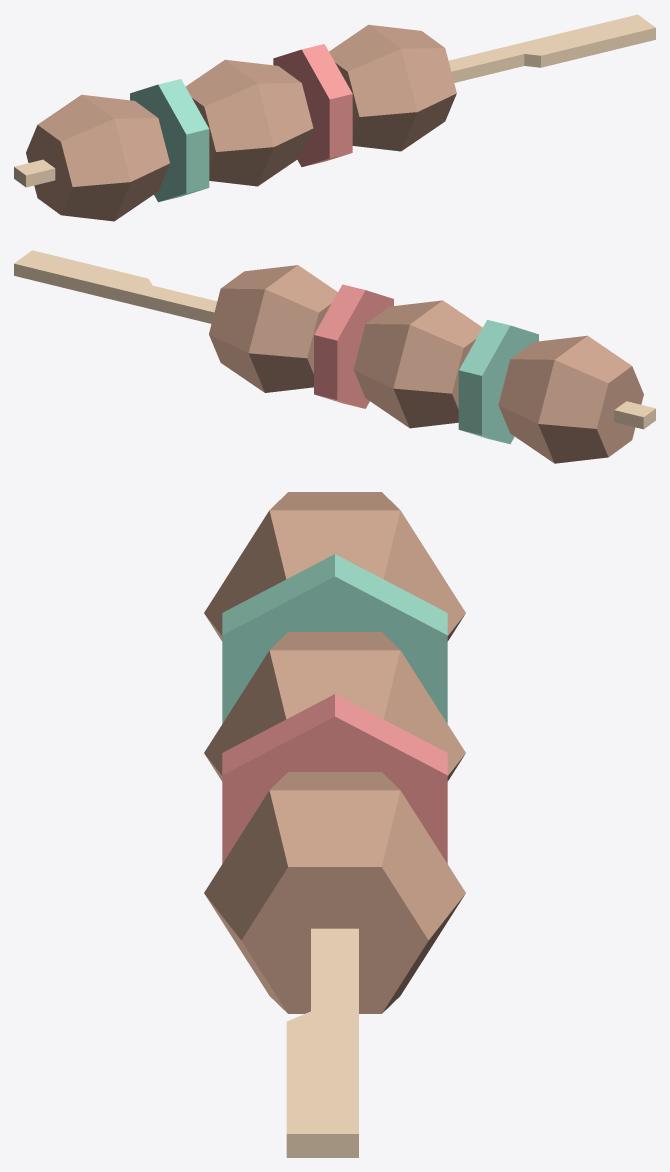
The model's file is skewerVegetables.fbx.
3 views of the same model, one above another, from view 1: azimuth 30°, elevation 25°; view 2: azimuth 150°, elevation 25°; view 3: azimuth 270°, elevation 25° (orthographic). The views are drawn at different scales.
Parts seen in each view (by area): view 1: skewerVegetables; view 2: skewerVegetables; view 3: skewerVegetables.
Boxes of the visible parts, x1,y1,x2,y2 form: skewerVegetables: [14, 14, 655, 221]; skewerVegetables: [14, 250, 655, 463]; skewerVegetables: [204, 492, 465, 1157].
Bounding box in the file's own units: 59.67 × 10.77 × 10.85.
